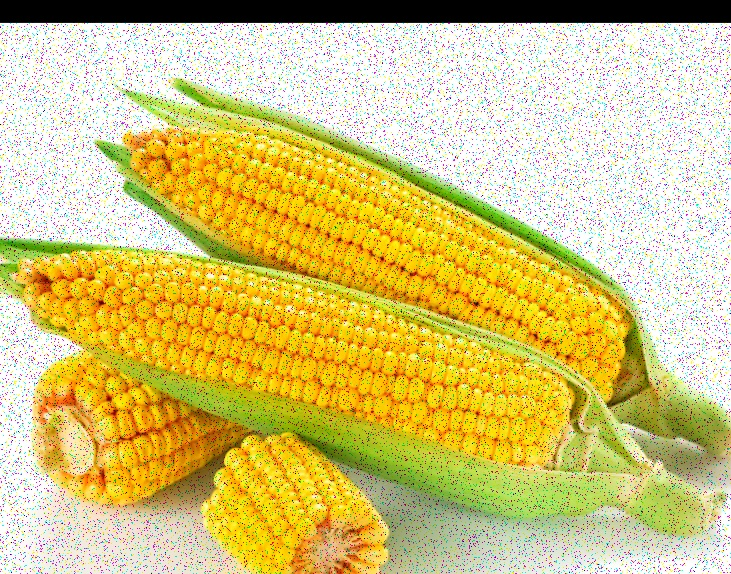corn: (116, 105, 729, 433), (1, 233, 649, 496)
